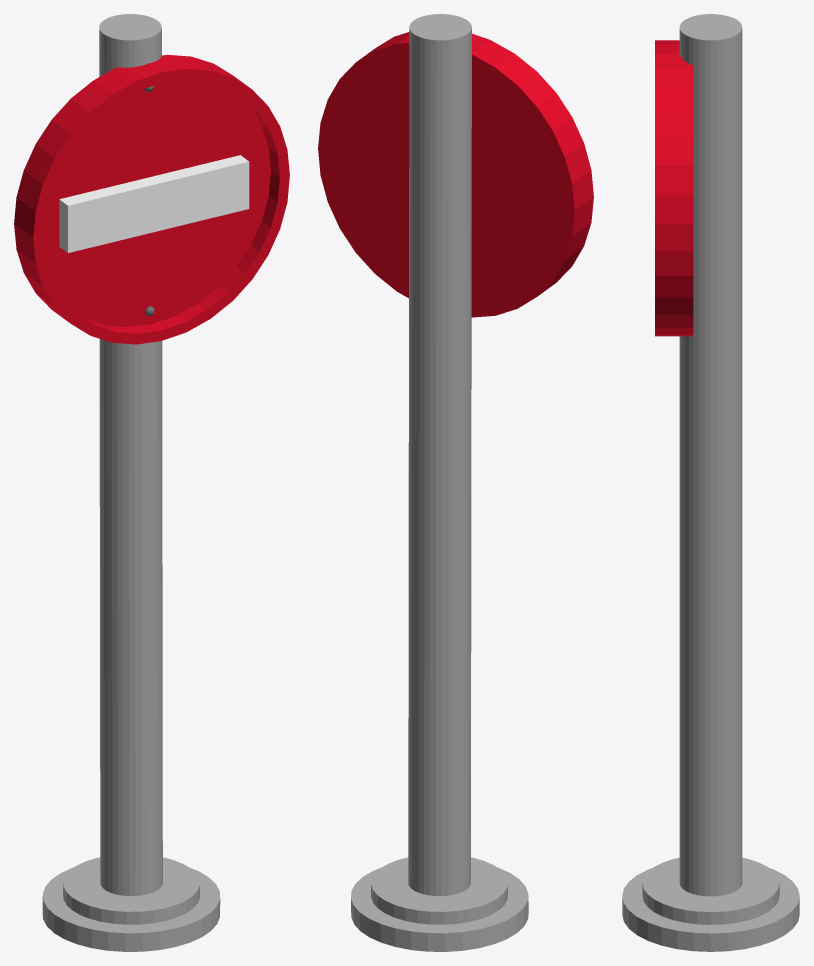
3 views of the same model, side by side, from view 1: azimuth 30°, elevation 25°; view 2: azimuth 150°, elevation 25°; view 3: azimuth 270°, elevation 25° (orthographic).
Parts seen in each view (by area): view 1: biencamnguocchieu; view 2: biencamnguocchieu; view 3: biencamnguocchieu.
Part boxes in pixels (box(x1,y1,x2,y2)): biencamnguocchieu: box(14, 14, 289, 951); biencamnguocchieu: box(318, 14, 593, 951); biencamnguocchieu: box(622, 14, 799, 951).
Bounding box in the file's own units: 1.7 × 5.62 × 1.02.
